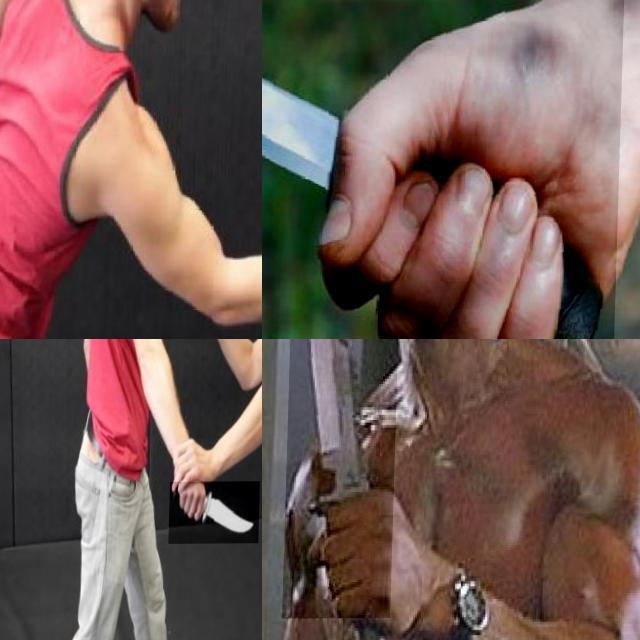-: (262, 0, 625, 339), (285, 339, 402, 619), (170, 481, 262, 544)
